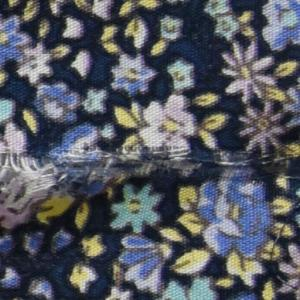Damage: (1, 138, 300, 218)
